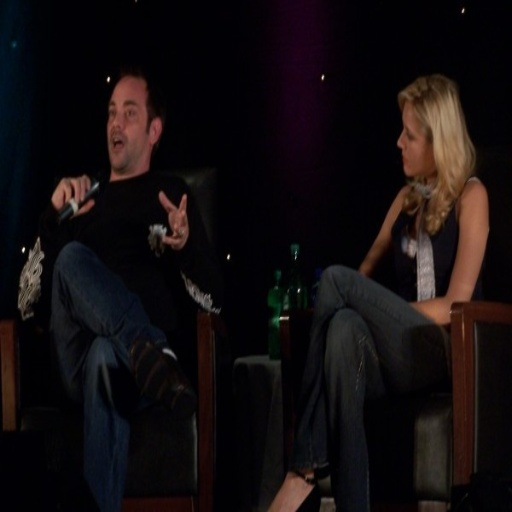hand: (149, 187, 187, 255), (49, 173, 95, 223)
